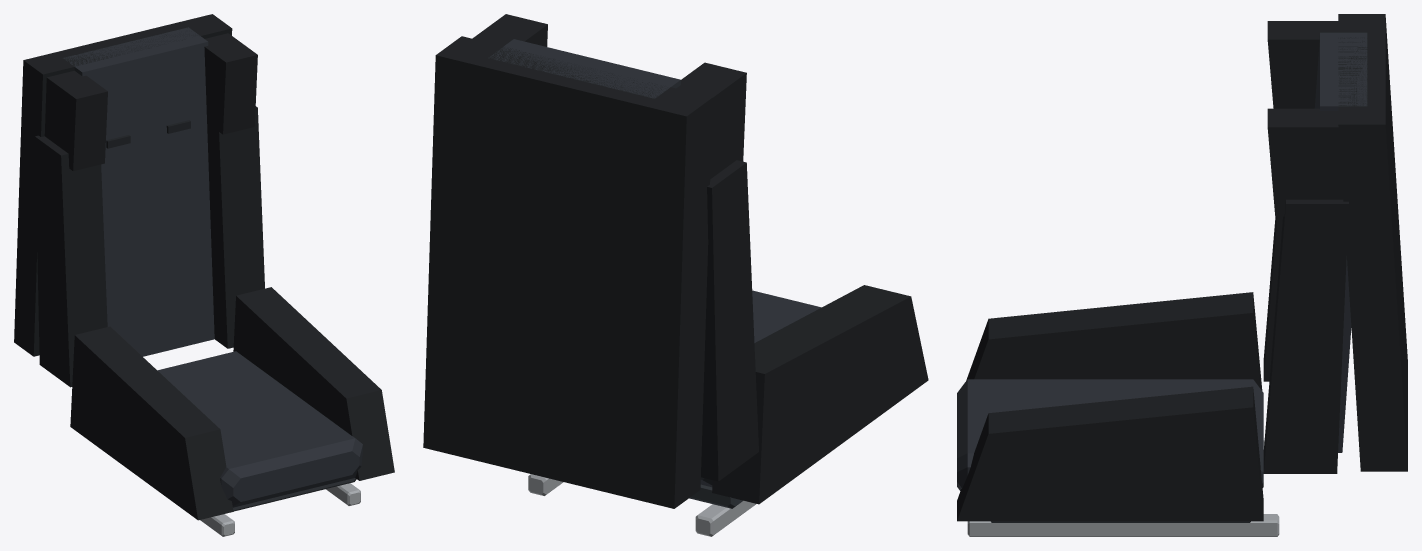
Rendered from apex_v8.glb.
The picture shows the model from 3 angles, left to right: view 1: azimuth 30°, elevation 25°; view 2: azimuth 150°, elevation 25°; view 3: azimuth 270°, elevation 25°; orthographic projection. The views are drawn at different scales.
Visible parts, largest first — view 1: model; view 2: model; view 3: model.
Boxes of the visible parts, bbox=[...] form: model: bbox=[14, 14, 394, 536]; model: bbox=[423, 14, 928, 536]; model: bbox=[957, 14, 1407, 536].
Bounding box in the file's own units: 0.5201 × 0.9 × 0.86.
4 materials, 1 textured.
